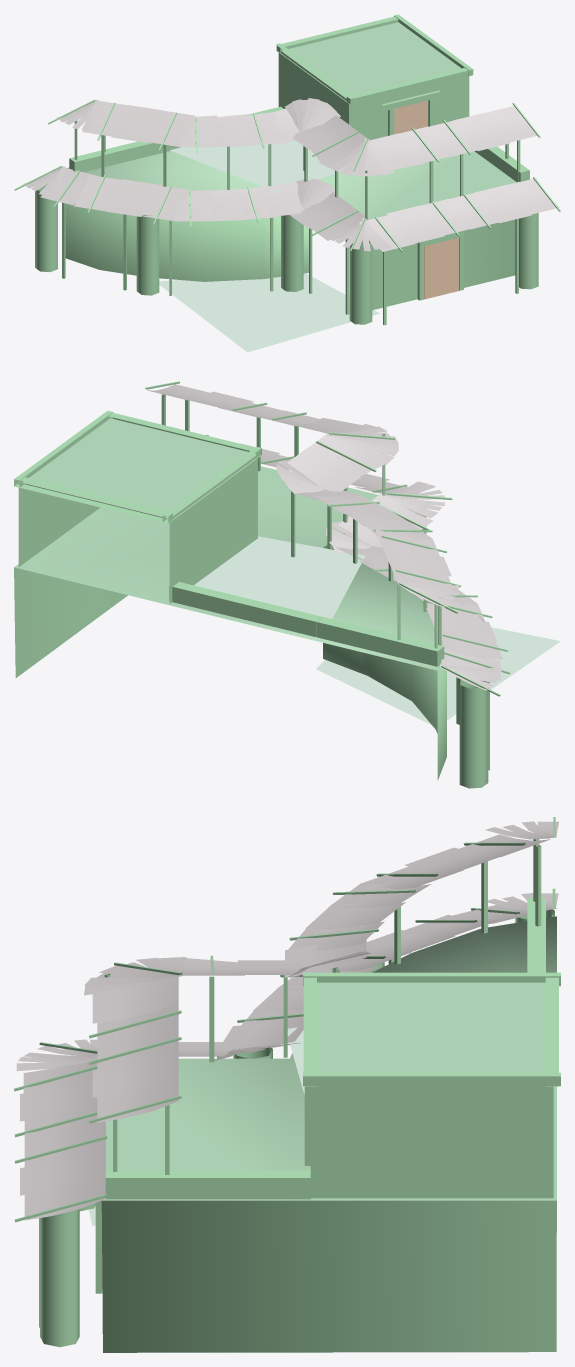
The picture shows the model from 3 angles, top to bottom: view 1: azimuth 30°, elevation 25°; view 2: azimuth 150°, elevation 25°; view 3: azimuth 270°, elevation 25°; orthographic projection. The views are drawn at different scales.
Visible parts, largest first — view 1: Object30; view 2: Object30; view 3: Object30.
Boxes of the visible parts, box(x1,y1,x2,y2) form: Object30: box(14, 14, 560, 352); Object30: box(14, 381, 560, 788); Object30: box(14, 817, 560, 1352).
Size of the model in its own units: 439 by 174 by 308.
